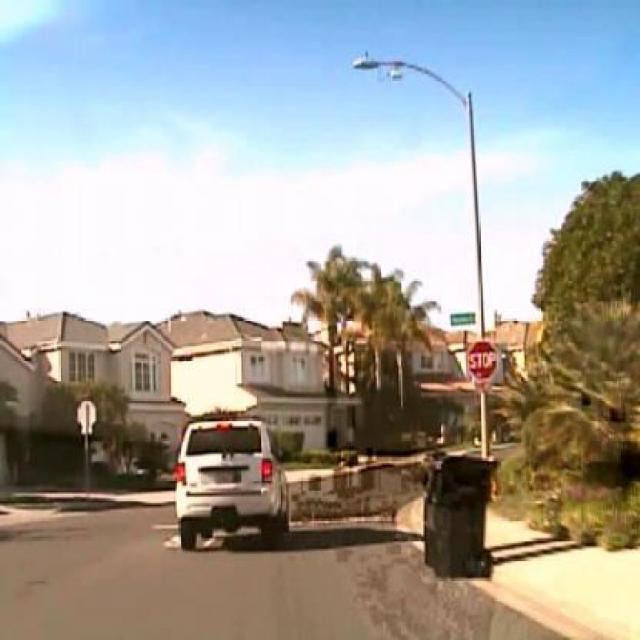Stop: (464, 338, 498, 382)
